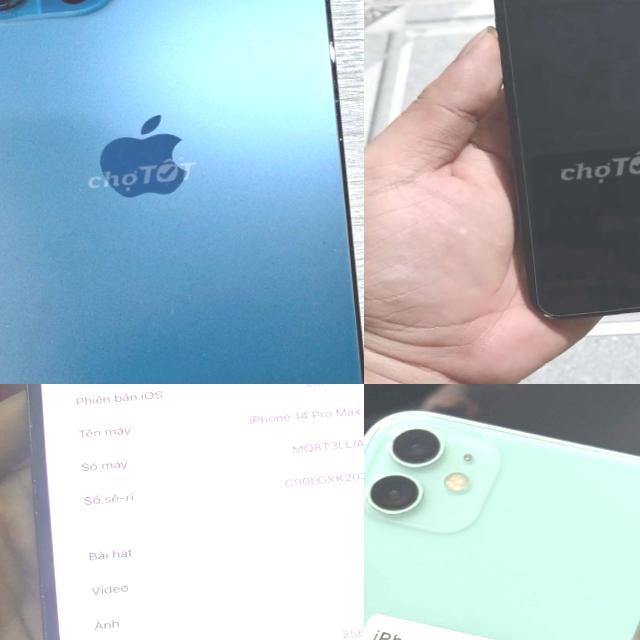gen_11: (364, 384, 640, 640)
gen_12_13: (0, 0, 364, 384), (489, 0, 640, 331)
gen_14: (0, 384, 364, 640)
